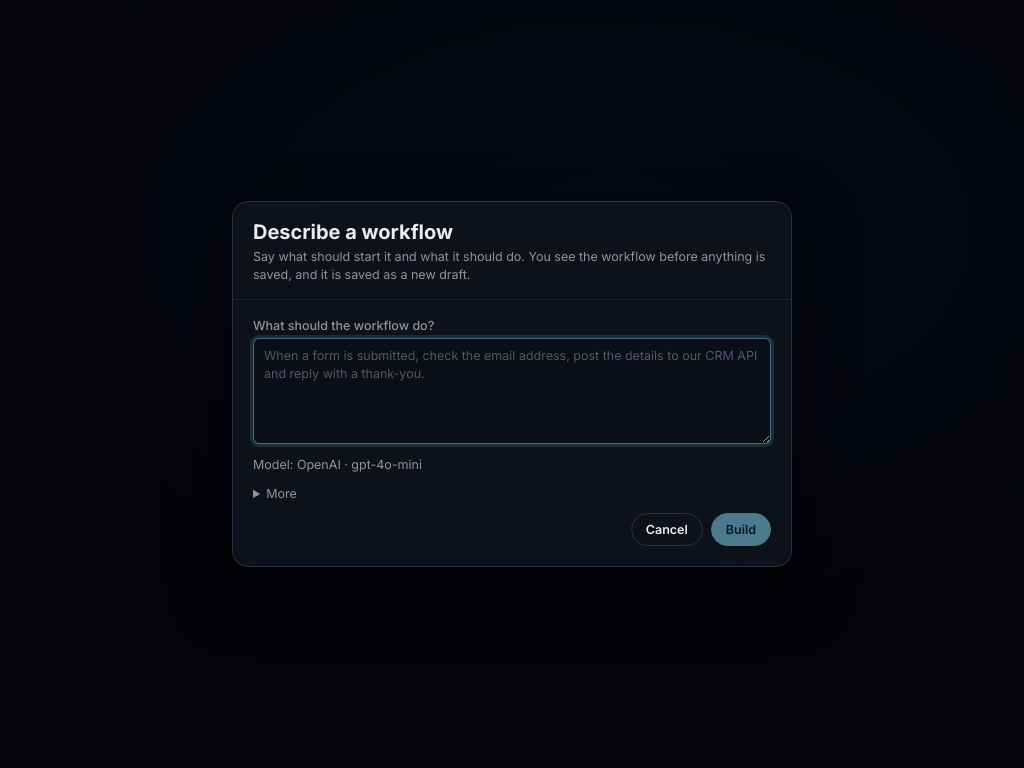
WorkflowBuilderDialog › shows the model's question and a failed build's problems
Type "notify" into the text box labelled "What should the workflow do?" at {"x": 512, "y": 391}, box top-left (253, 338), bottom-right (771, 444)
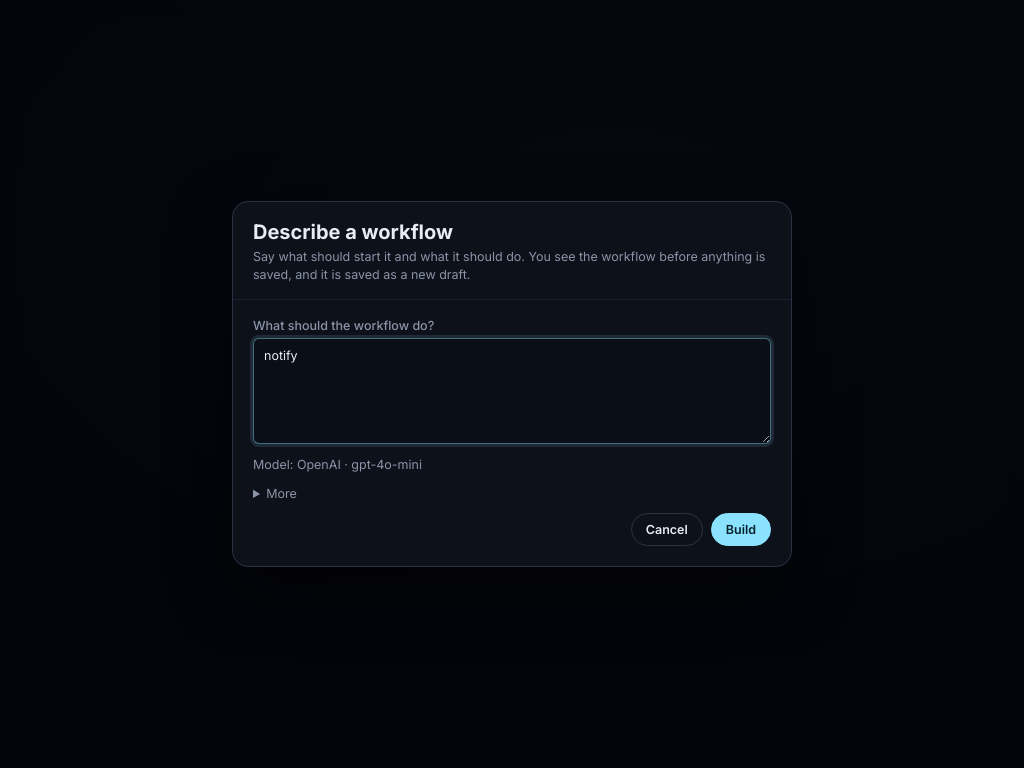
Click the button "Build" at {"x": 741, "y": 530}, box top-left (711, 513), bottom-right (771, 546)
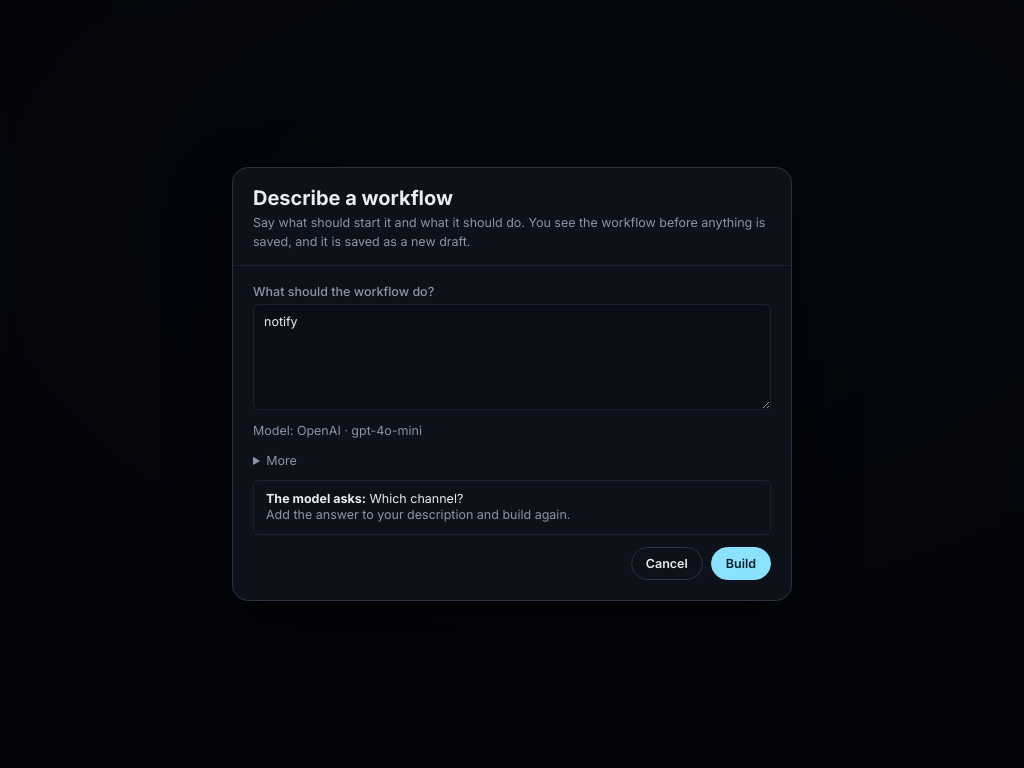
Expected: the message shows "The model asks: Which channel?", top-left (253, 480), bottom-right (771, 535)
Click the button "Build" at {"x": 741, "y": 564}, box top-left (711, 547), bottom-right (771, 580)
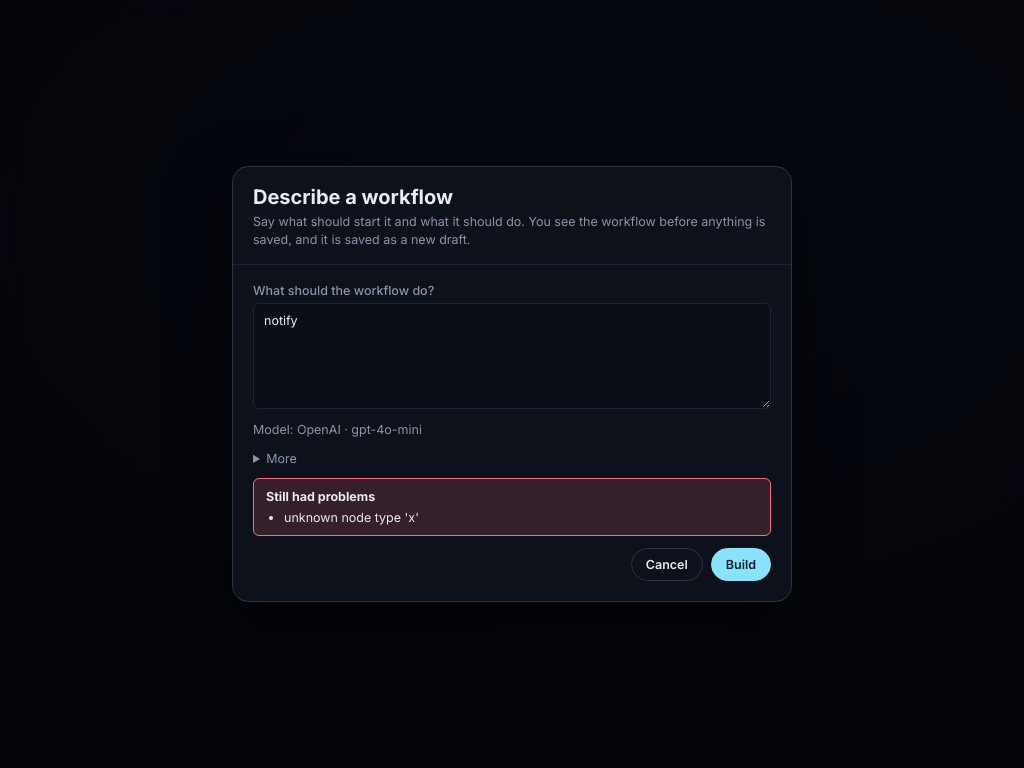
Expected: the message shows "unknown node type 'x'", top-left (284, 510), bottom-right (419, 525)
Click the button "Build" at {"x": 741, "y": 565}, box top-left (711, 548), bottom-right (771, 581)
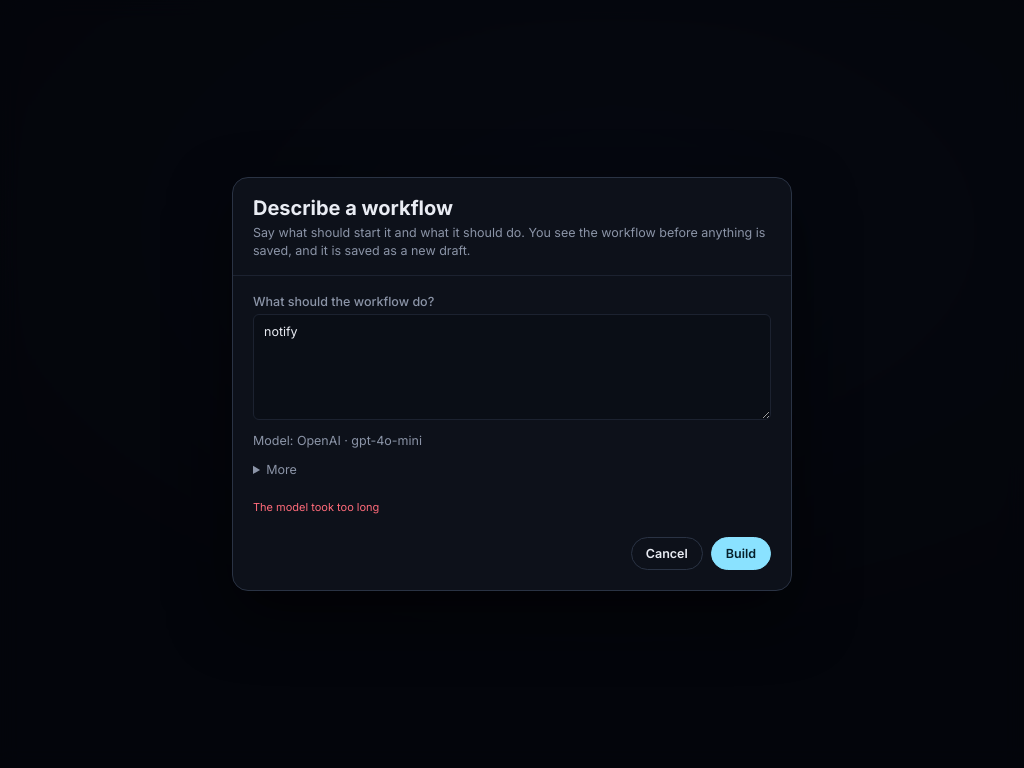
Expected: the message reads "The model took too long", top-left (253, 500), bottom-right (379, 514)
